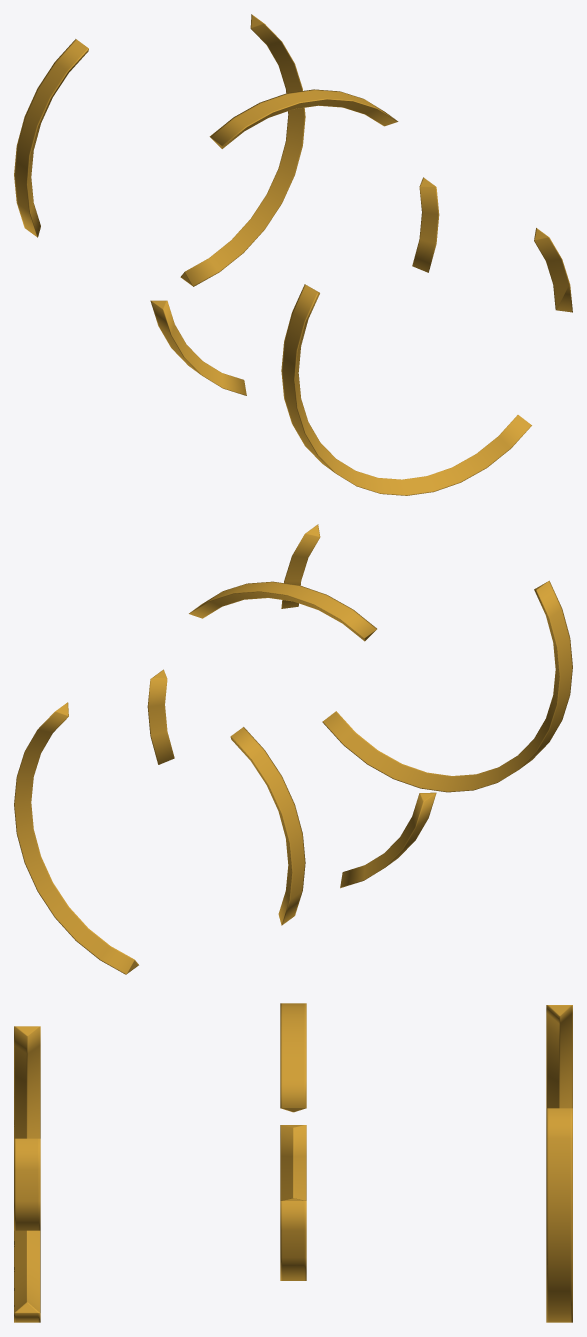
The model's file is Golden Arch.fbx.
3 renders of one model, top to bottom at view 1: azimuth 30°, elevation 25°; view 2: azimuth 150°, elevation 25°; view 3: azimuth 270°, elevation 25°, orthographic.
Visible parts, largest first — view 1: Torus; view 2: Torus; view 3: Torus.
Part boxes in pixels (box(x1,y1,x2,y2)): Torus: box(14, 14, 572, 495); Torus: box(14, 524, 572, 974); Torus: box(14, 1003, 572, 1322).
Bounding box in the file's own units: 4.69 × 4.69 × 8.2.
